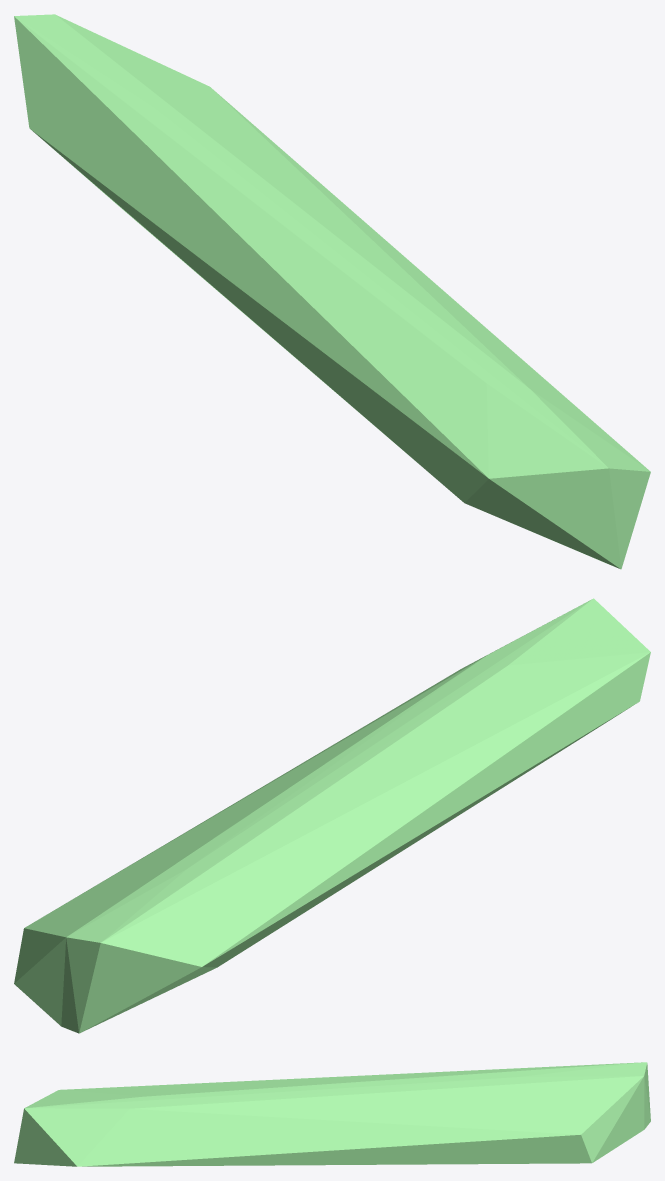
The model's file is UMIRobot_UMIRobot_link_5_convex_coll_63.dae.
3 renders of one model, top to bottom at view 1: azimuth 30°, elevation 25°; view 2: azimuth 150°, elevation 25°; view 3: azimuth 270°, elevation 25°, orthographic. The views are drawn at different scales.
Visible parts, largest first — view 1: node; view 2: node; view 3: node.
Part boxes in pixels (box(x1,y1,x2,y2)): node: box(14, 14, 650, 569); node: box(14, 598, 650, 1033); node: box(14, 1062, 650, 1166).
Size of the model in its own units: 0.00212 by 0.00166 by 0.0109.
